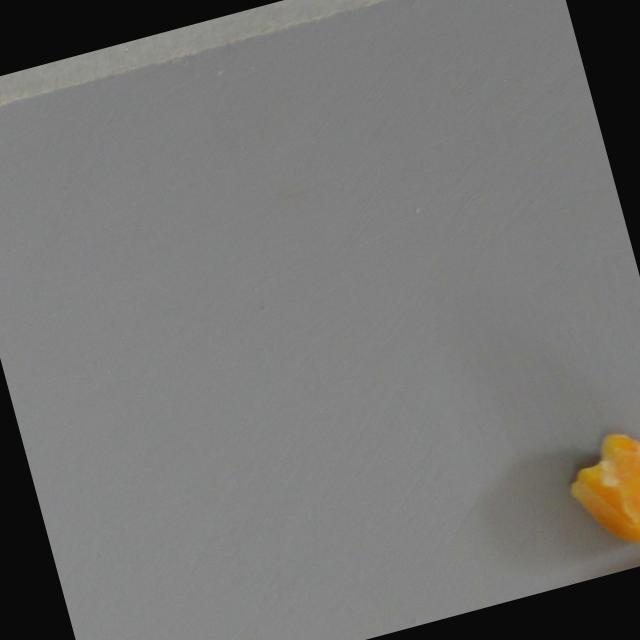dañado: (548, 418, 640, 564)
